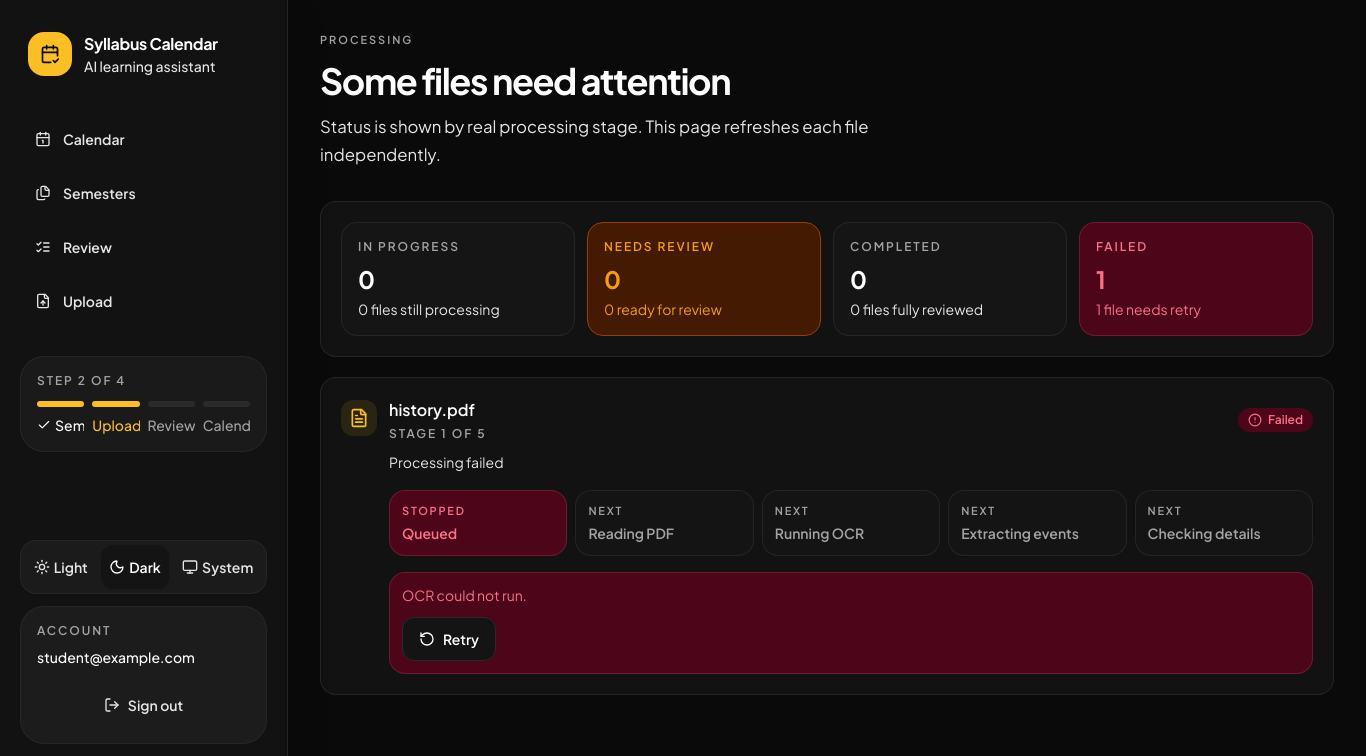
Test: shows a retry recovery alert when retrying a failed job fails, then clears it after a successful retry
The width and height of the screenshot is (1366, 756).
Expected: the heading "Some files need attention" is shown, [320, 58, 730, 102]
Click the button with aria-label "Retry history.pdf" at point(449, 638), box [402, 616, 496, 660]
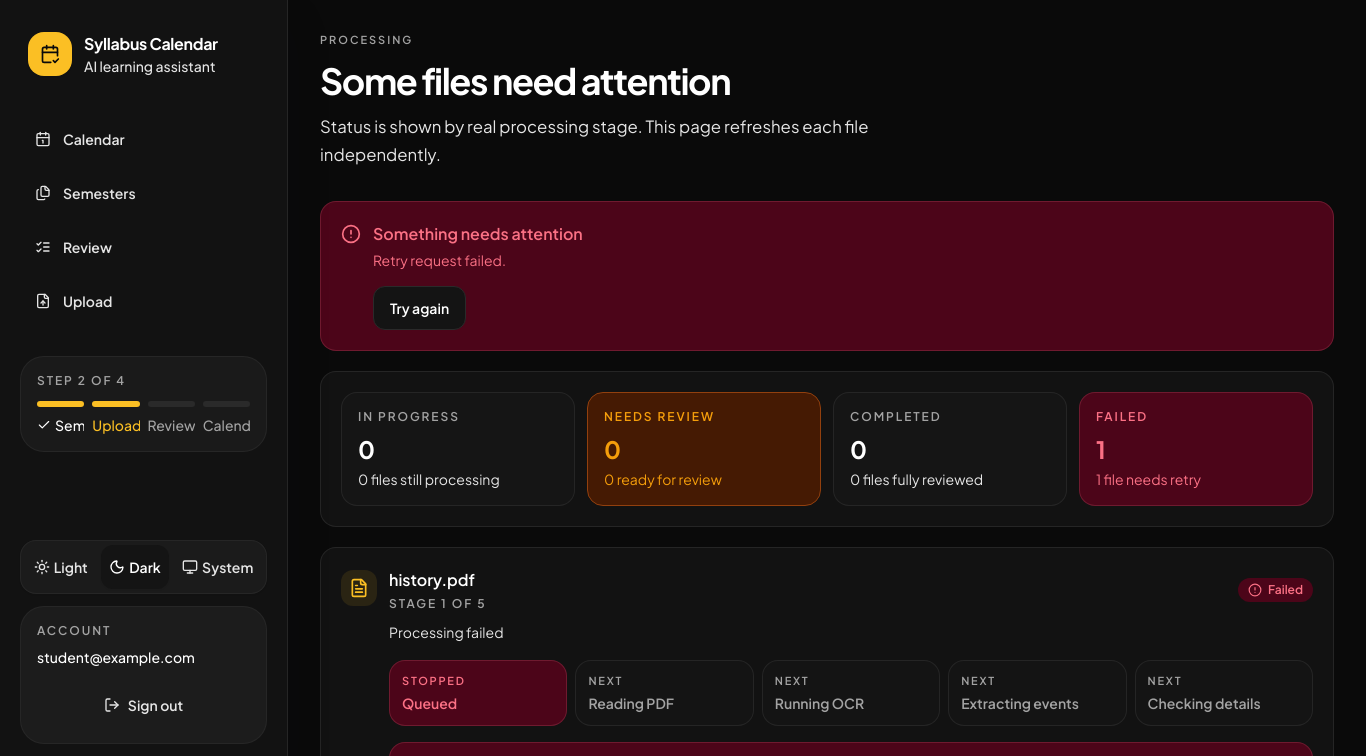
Result: the message shows "Retry request failed." at [373, 250, 506, 268]
Result: the button "Try again" is enabled
Click the button "Try again" at point(420, 308), box [373, 286, 466, 330]
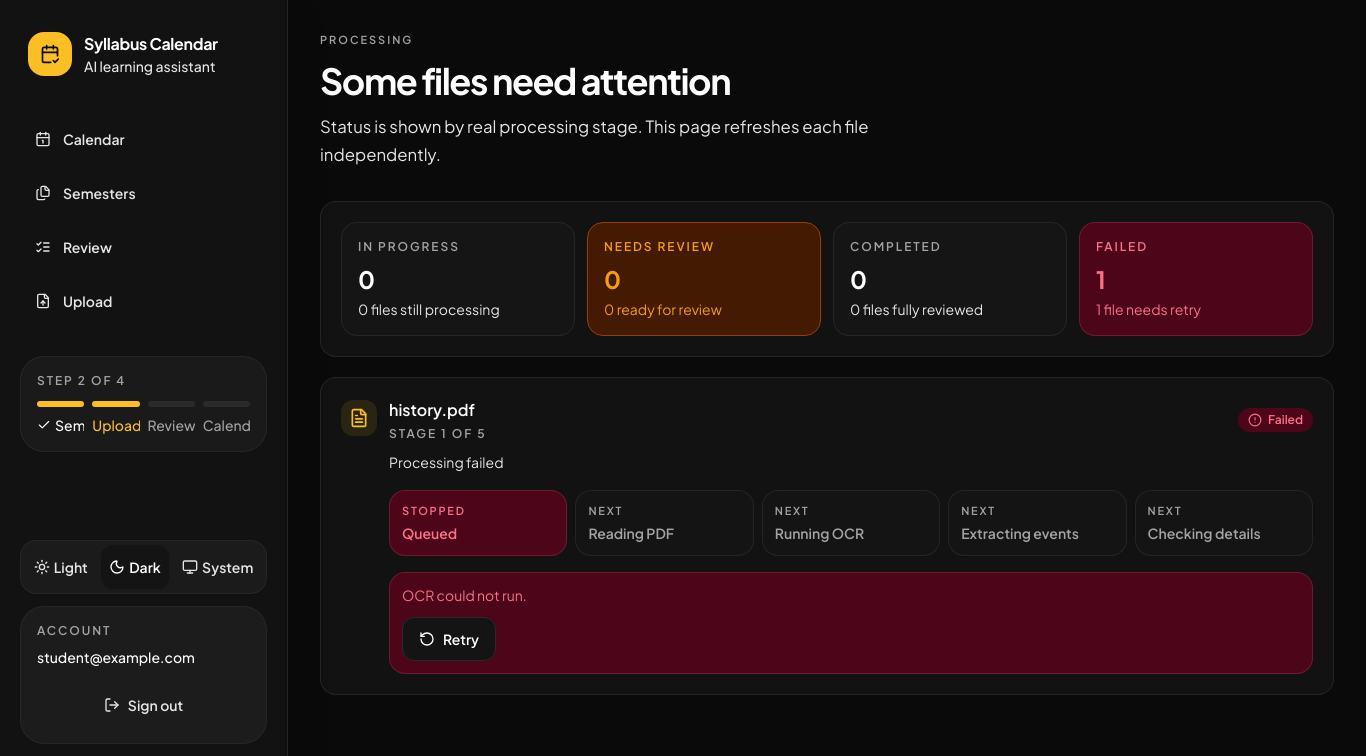
Result: the text "Retry request failed." is gone
